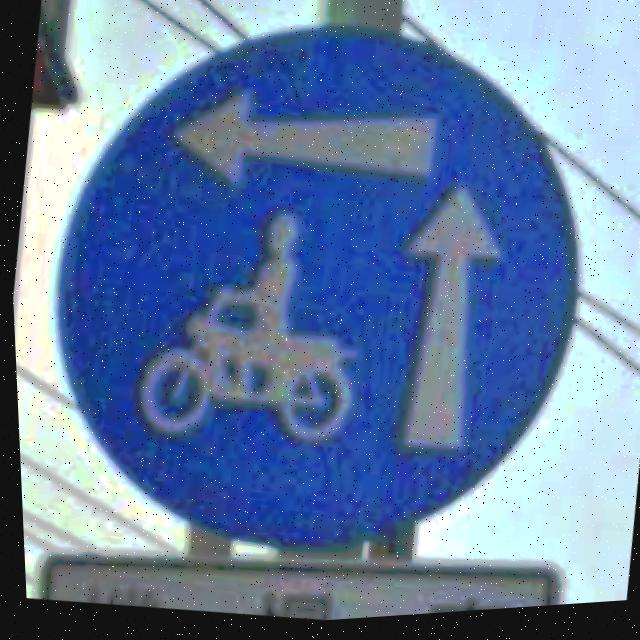twostageturn: (50, 29, 576, 558)
